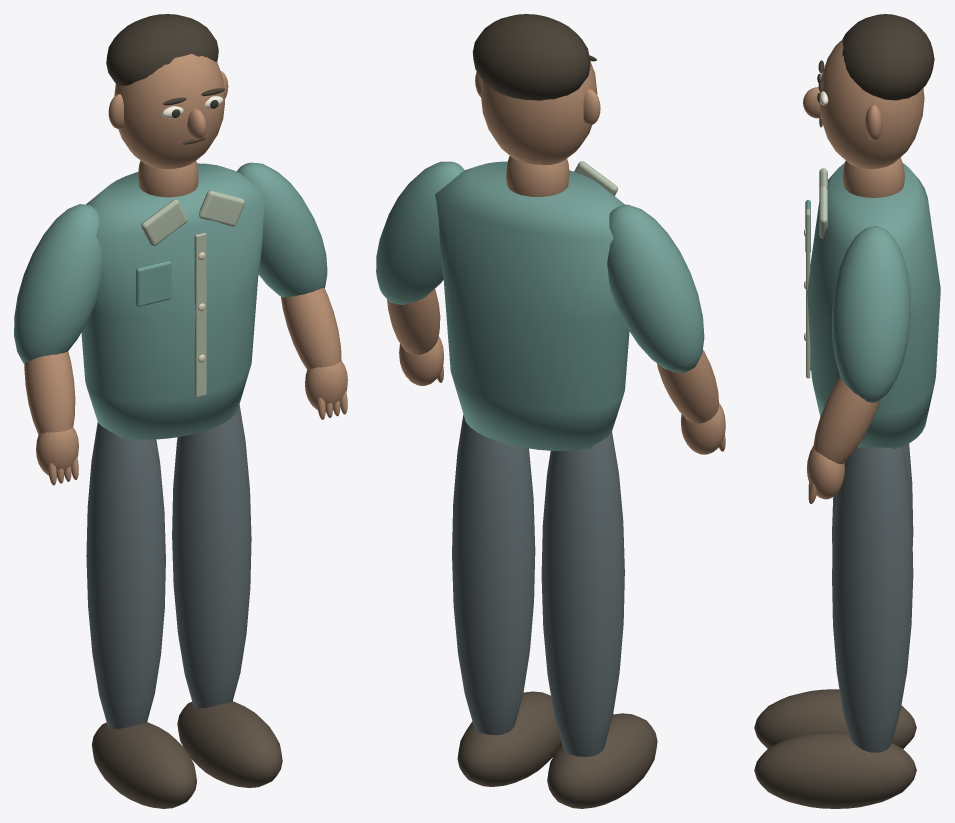
Rendered from companion.glb.
3 views of the same model, side by side, from view 1: azimuth 30°, elevation 25°; view 2: azimuth 150°, elevation 25°; view 3: azimuth 270°, elevation 25° (orthographic). The views are drawn at different scales.
Parts seen in each view (by area): view 1: Shirt, Trouser leg, Trouser leg.001, Sleeve, Face, Sleeve.001, Shoe, Shoe.001, Hair cap, Forearm, Forearm.001, Shirt placket (+6 smaller); view 2: Shirt, Trouser leg, Trouser leg.001, Sleeve, Hair cap, Sleeve.001, Face, Shoe, Shoe.001, Forearm, Forearm.001, Neck (+2 smaller); view 3: Trouser leg.001, Shirt, Sleeve.001, Shoe.001, Face, Hair cap, Shoe, Forearm.001, Neck, Hand.001, Shirt placket, Ear.001 (+3 smaller).
Part boxes in pixels (bbox=[...]): Shirt: bbox=[81, 163, 266, 439]; Trouser leg: bbox=[86, 422, 165, 729]; Trouser leg.001: bbox=[172, 404, 251, 708]; Sleeve: bbox=[14, 204, 103, 363]; Face: bbox=[114, 54, 224, 168]; Sleeve.001: bbox=[237, 162, 327, 297]; Shoe: bbox=[91, 722, 196, 808]; Shoe.001: bbox=[177, 701, 282, 787]; Hair cap: bbox=[106, 14, 218, 85]; Forearm: bbox=[24, 351, 75, 434]; Forearm.001: bbox=[281, 288, 341, 369]; Shirt placket: bbox=[194, 232, 206, 397]; Shirt: bbox=[435, 161, 629, 450]; Trouser leg: bbox=[541, 432, 624, 756]; Trouser leg.001: bbox=[452, 414, 535, 735]; Sleeve: bbox=[607, 204, 704, 372]; Hair cap: bbox=[472, 14, 590, 100]; Sleeve.001: bbox=[376, 161, 464, 304]; Face: bbox=[481, 60, 597, 165]; Shoe: bbox=[547, 713, 657, 808]; Shoe.001: bbox=[457, 691, 561, 786]; Forearm: bbox=[657, 349, 719, 423]; Forearm.001: bbox=[387, 289, 440, 354]; Neck: bbox=[506, 156, 569, 196]; Trouser leg.001: bbox=[832, 446, 913, 752]; Shirt: bbox=[807, 163, 940, 449]; Sleeve.001: bbox=[832, 225, 910, 402]; Shoe.001: bbox=[754, 731, 916, 808]; Face: bbox=[819, 39, 924, 168]; Hair cap: bbox=[842, 14, 934, 100]; Shoe: bbox=[754, 689, 916, 748]; Forearm.001: bbox=[813, 377, 880, 464]; Neck: bbox=[842, 157, 904, 197]; Hand.001: bbox=[807, 446, 844, 499]; Shirt placket: bbox=[806, 209, 810, 378]; Ear.001: bbox=[865, 105, 882, 140].
Size of the model in its own units: 0.756 by 1.76 by 0.39.
